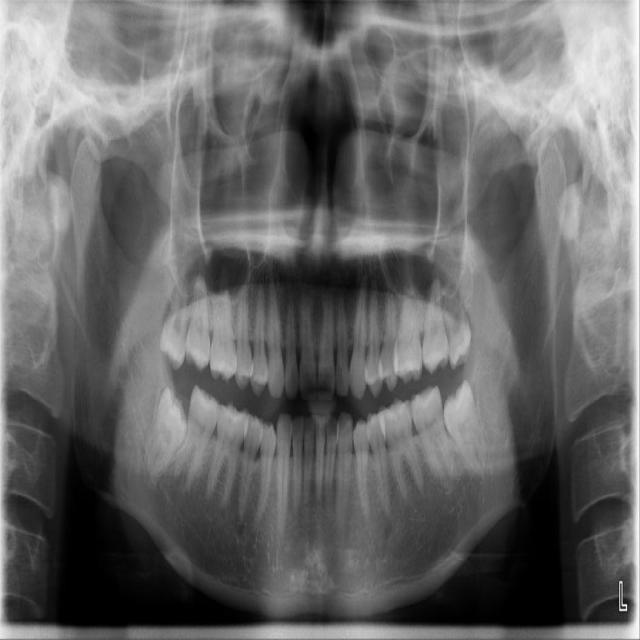3M ESPE Implant: (158, 265, 194, 369)
73: (618, 613, 628, 623)
BioHorizons Implant: (422, 279, 451, 372)
BioLife Implant: (446, 287, 473, 368)
Biomet 3i Implant: (434, 379, 496, 485)
Blue Sky Bio Implant: (406, 383, 458, 491)
Caries: (183, 277, 211, 369)
Implant: (170, 385, 224, 490)
Keystone Dental Implant: (137, 385, 198, 484)
